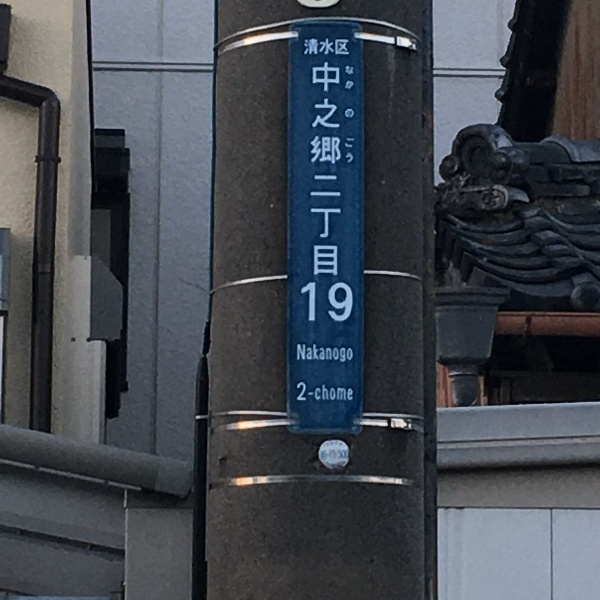text: (321, 59, 336, 278), (311, 59, 320, 278), (337, 59, 342, 278), (305, 280, 320, 326), (321, 280, 336, 326), (337, 280, 352, 326), (305, 379, 320, 404), (321, 379, 336, 404), (337, 379, 352, 404), (305, 342, 320, 364), (321, 342, 336, 364), (337, 342, 352, 364), (305, 37, 320, 58), (321, 37, 336, 58), (337, 37, 351, 58), (344, 134, 352, 165), (299, 280, 304, 326), (295, 379, 304, 404), (296, 342, 304, 364), (346, 64, 352, 93), (353, 280, 356, 326), (344, 104, 352, 120), (353, 134, 356, 165), (353, 379, 356, 404), (353, 104, 356, 120), (353, 342, 355, 364), (353, 64, 354, 93)
